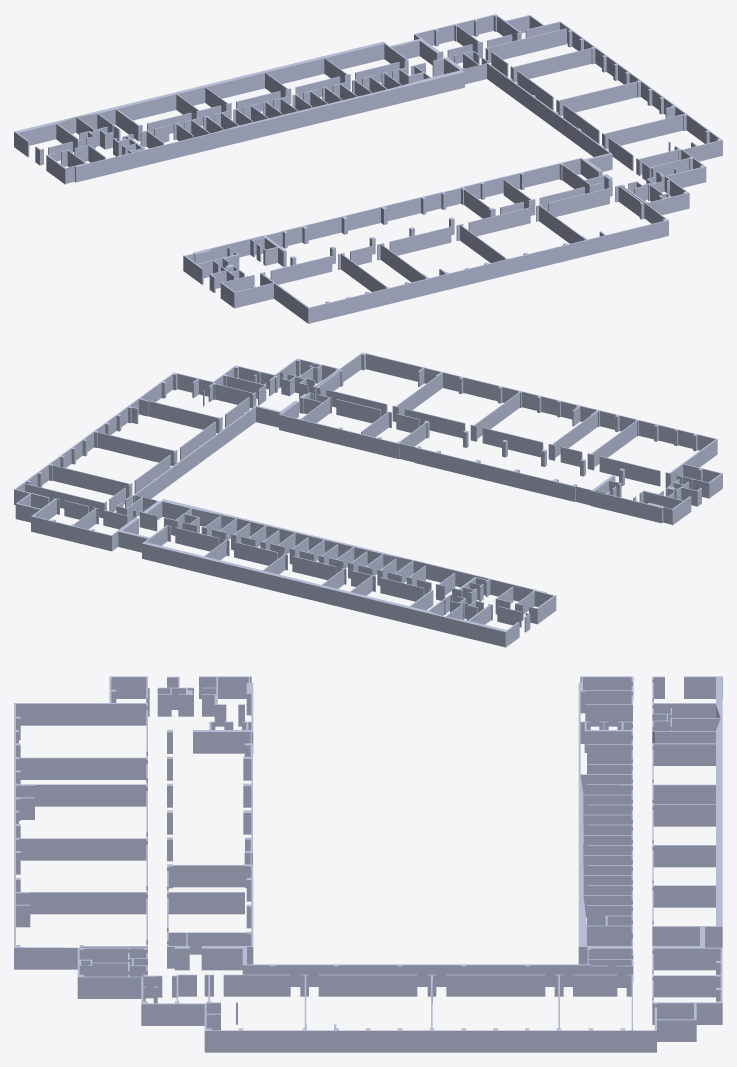
Rendered from 4walls.FBX.
3 renders of one model, top to bottom at view 1: azimuth 30°, elevation 25°; view 2: azimuth 150°, elevation 25°; view 3: azimuth 270°, elevation 25°, orthographic. The views are drawn at different scales.
Visible parts, largest first — view 1: 凸台-拉伸1[1], 凸台-拉伸1[5], 凸台-拉伸1[12], 凸台-拉伸1[45], 凸台-拉伸1[40], 凸台-拉伸1[43], 凸台-拉伸1[39], 凸台-拉伸1[36], 凸台-拉伸1[20], 凸台-拉伸1[34], 凸台-拉伸1[38], 凸台-拉伸1[46]; view 2: 凸台-拉伸1[1], 凸台-拉伸1[5], 凸台-拉伸1[45], 凸台-拉伸1[43], 凸台-拉伸1[40], 凸台-拉伸1[12], 凸台-拉伸1[36], 凸台-拉伸1[42], 凸台-拉伸1[6], 凸台-拉伸1[4], 凸台-拉伸1[9], 凸台-拉伸1[7] (+4 smaller); view 3: 凸台-拉伸1[1], 凸台-拉伸1[5], 凸台-拉伸1[20], 凸台-拉伸1[34], 凸台-拉伸1[49], 凸台-拉伸1[35], 凸台-拉伸1[46], 凸台-拉伸1[18], 凸台-拉伸1[19], 凸台-拉伸1[21], 凸台-拉伸1[13].
Part boxes in pixels (x1=…): 凸台-拉伸1[1]: x1=14, y1=14, x2=722, y2=323; 凸台-拉伸1[5]: x1=46, y1=51, x2=612, y2=284; 凸台-拉伸1[12]: x1=485, y1=28, x2=566, y2=62; 凸台-拉伸1[45]: x1=270, y1=255, x2=332, y2=284; 凸台-拉伸1[40]: x1=468, y1=207, x2=530, y2=236; 凸台-拉伸1[43]: x1=389, y1=226, x2=451, y2=255; 凸台-拉伸1[39]: x1=548, y1=188, x2=609, y2=216; 凸台-拉伸1[36]: x1=636, y1=146, x2=681, y2=175; 凸台-拉伸1[20]: x1=517, y1=71, x2=553, y2=110; 凸台-拉伸1[34]: x1=563, y1=104, x2=599, y2=143; 凸台-拉伸1[38]: x1=615, y1=185, x2=644, y2=219; 凸台-拉伸1[46]: x1=209, y1=264, x2=244, y2=292; 凸台-拉伸1[1]: x1=14, y1=352, x2=722, y2=647; 凸台-拉伸1[5]: x1=116, y1=392, x2=691, y2=624; 凸台-拉伸1[45]: x1=599, y1=456, x2=660, y2=486; 凸台-拉伸1[43]: x1=482, y1=427, x2=543, y2=457; 凸台-拉伸1[40]: x1=404, y1=408, x2=465, y2=438; 凸台-拉伸1[12]: x1=25, y1=483, x2=106, y2=518; 凸台-拉伸1[36]: x1=208, y1=382, x2=256, y2=408; 凸台-拉伸1[42]: x1=336, y1=399, x2=380, y2=423; 凸台-拉伸1[6]: x1=292, y1=556, x2=336, y2=580; 凸台-拉伸1[4]: x1=380, y1=577, x2=424, y2=601; 凸台-拉伸1[9]: x1=175, y1=527, x2=219, y2=551; 凸台-拉伸1[7]: x1=234, y1=541, x2=277, y2=565; 凸台-拉伸1[1]: x1=14, y1=676, x2=722, y2=1052; 凸台-拉伸1[5]: x1=167, y1=676, x2=633, y2=987; 凸台-拉伸1[20]: x1=446, y1=974, x2=545, y2=996; 凸台-拉伸1[34]: x1=318, y1=974, x2=417, y2=996; 凸台-拉伸1[49]: x1=167, y1=890, x2=244, y2=914; 凸台-拉伸1[35]: x1=223, y1=974, x2=290, y2=996; 凸台-拉伸1[46]: x1=157, y1=676, x2=193, y2=716; 凸台-拉伸1[18]: x1=573, y1=974, x2=617, y2=996; 凸台-拉伸1[19]: x1=585, y1=695, x2=632, y2=726; 凸台-拉伸1[21]: x1=587, y1=740, x2=632, y2=764; 凸台-拉伸1[13]: x1=587, y1=904, x2=632, y2=925.
Size of the model in its own units: 4158 by 118 by 3510.
